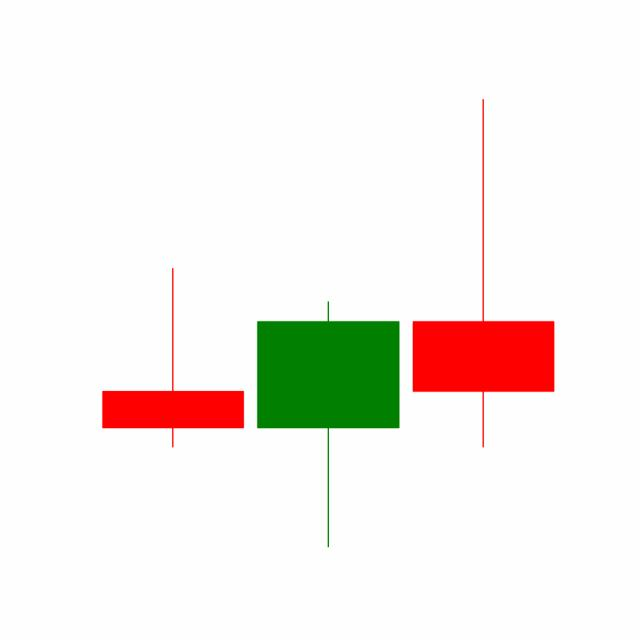Hammer: (249, 298, 406, 550)
